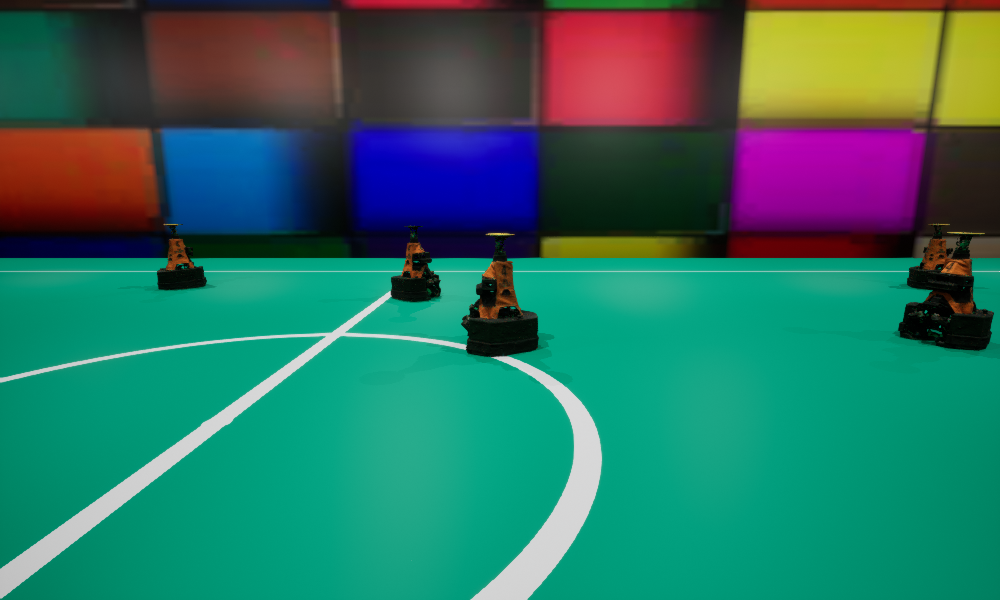0 orange robot TechUnited: (898, 232, 993, 349), (461, 233, 538, 355), (391, 225, 440, 301), (157, 224, 206, 289), (907, 224, 952, 289)
